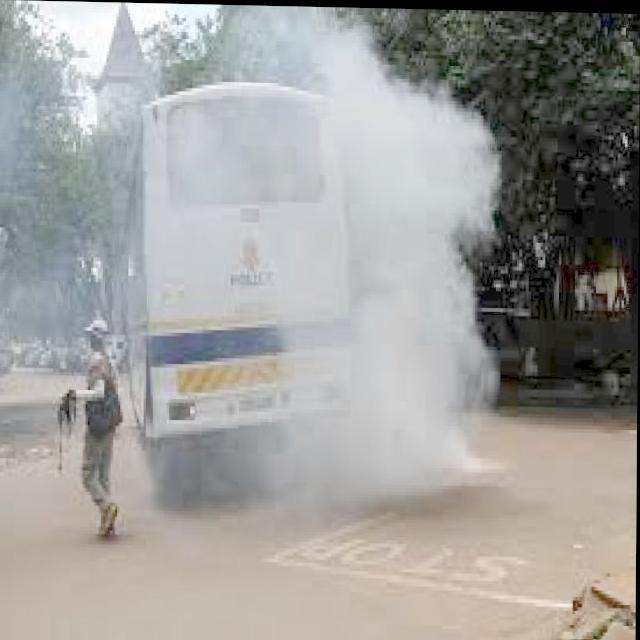Smoke: (169, 3, 509, 509)
